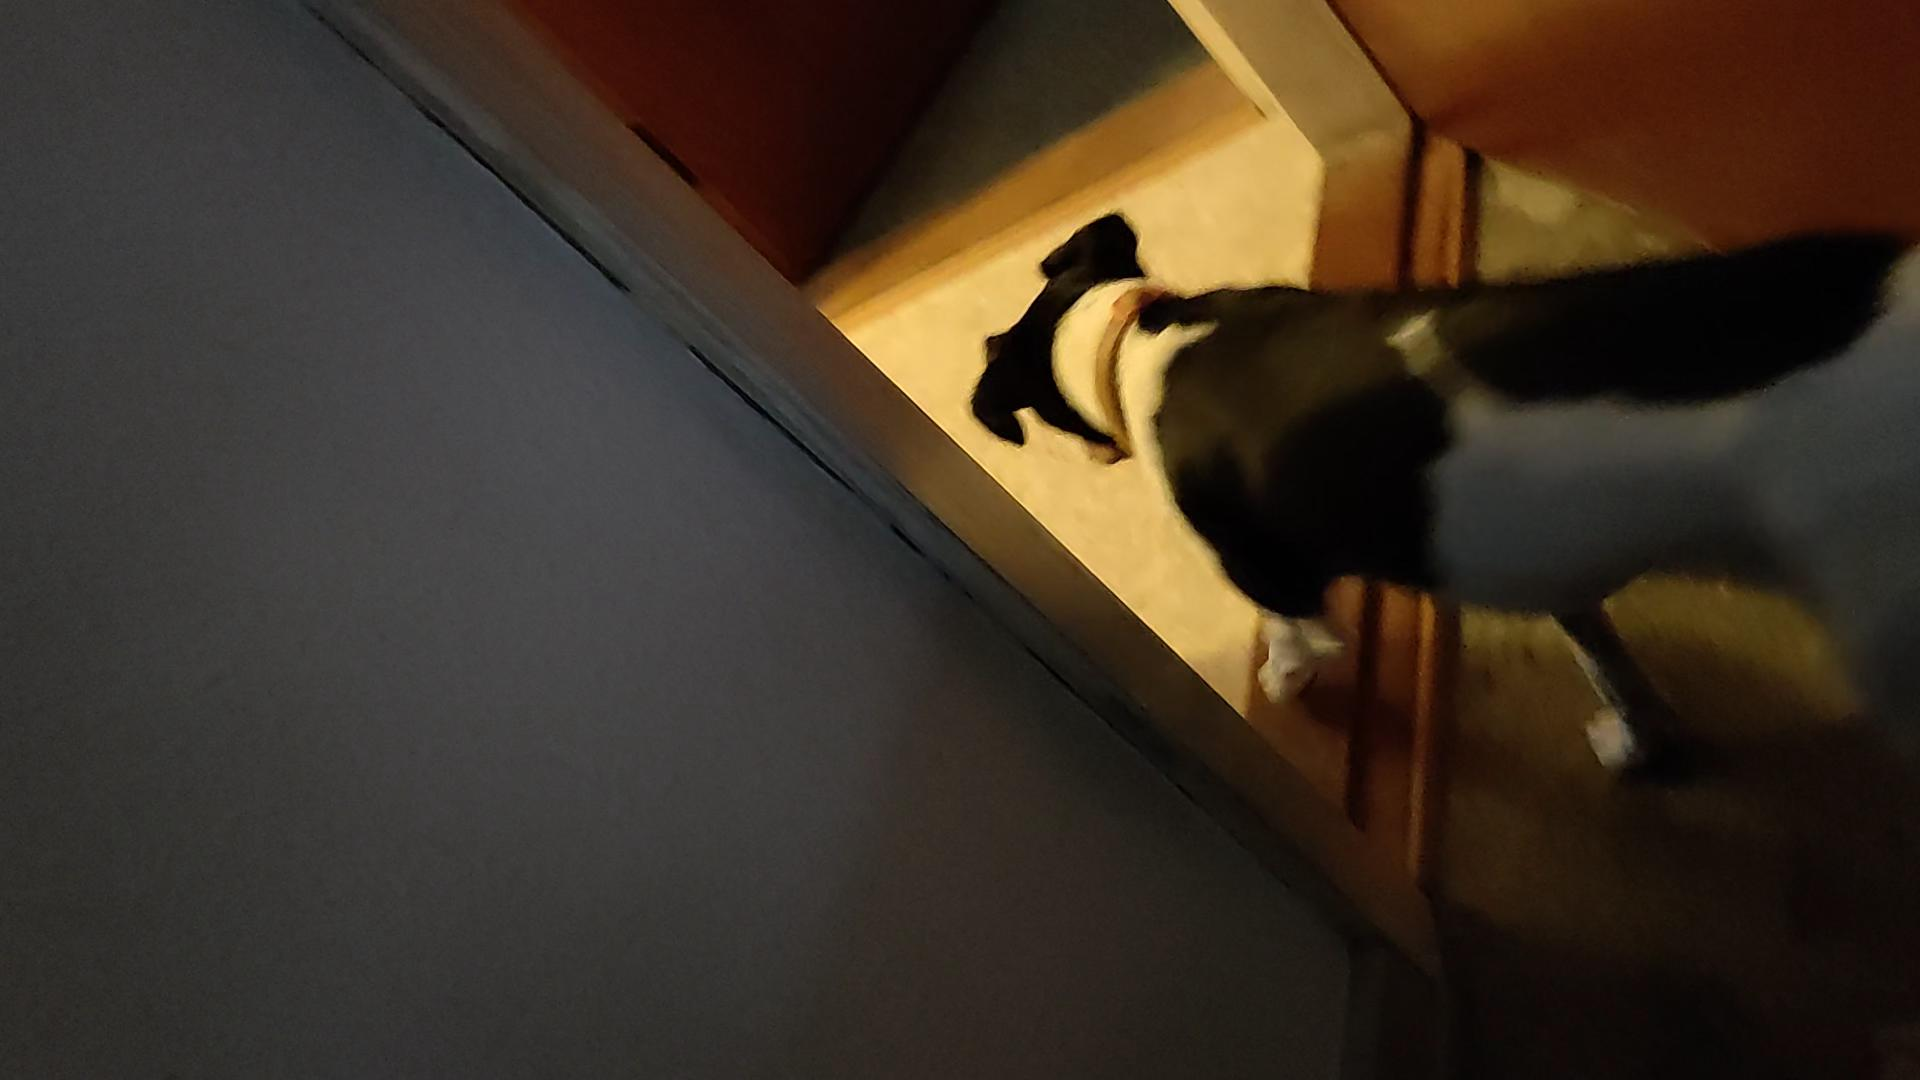Dog: (928, 167, 1919, 802)
